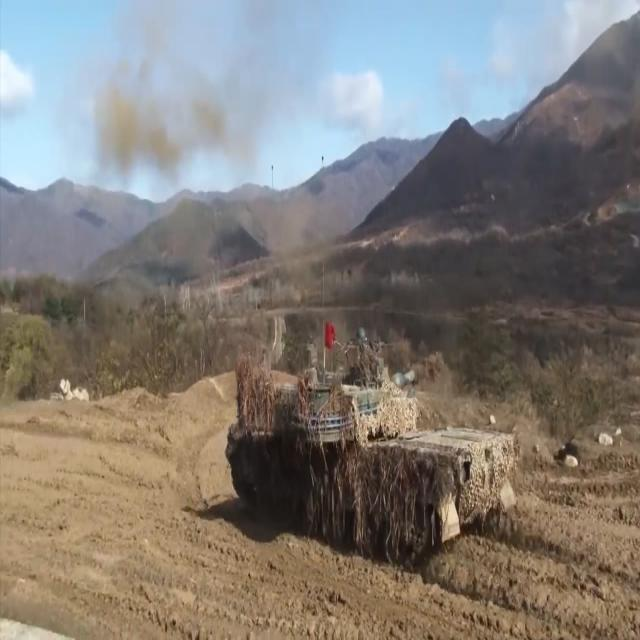korea tank: (224, 328, 517, 562)
